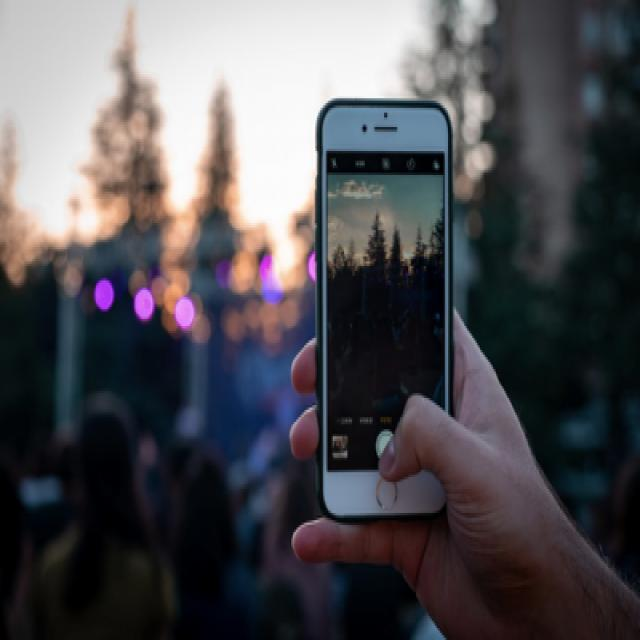cellphone: (314, 96, 452, 522)
